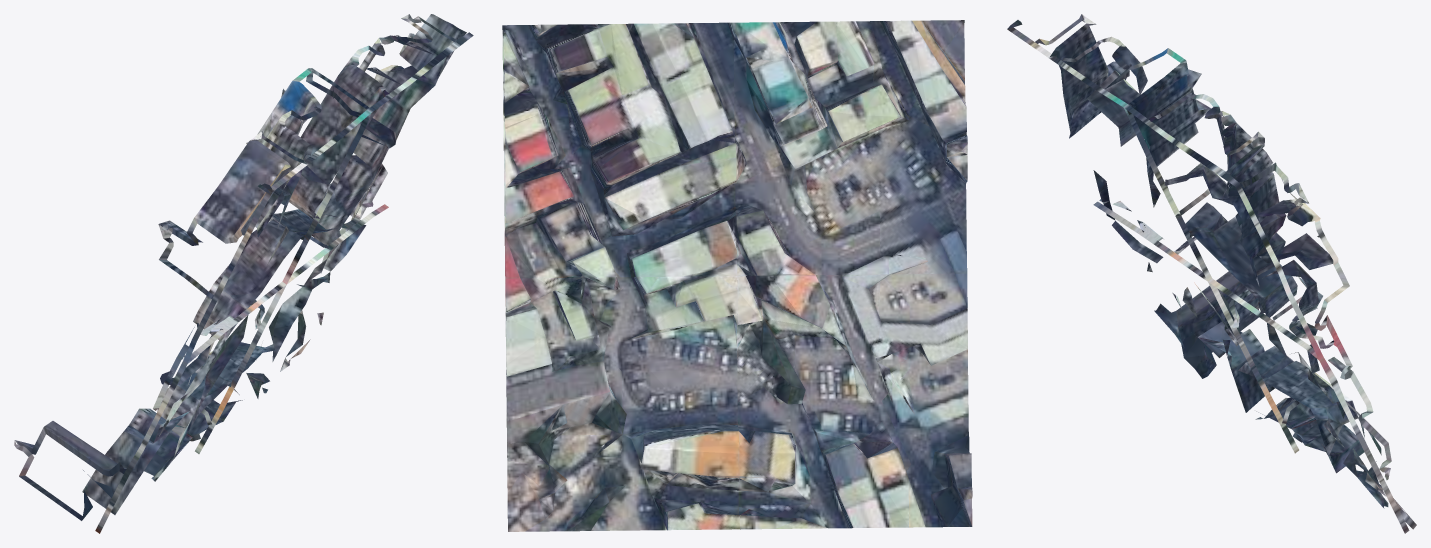
3 renders of one model, left to right at view 1: azimuth 30°, elevation 25°; view 2: azimuth 150°, elevation 25°; view 3: azimuth 270°, elevation 25°, orthographic. The views are drawn at different scales.
Size of the model in its own units: 169 by 149 by 131.
1 material, 1 textured.
